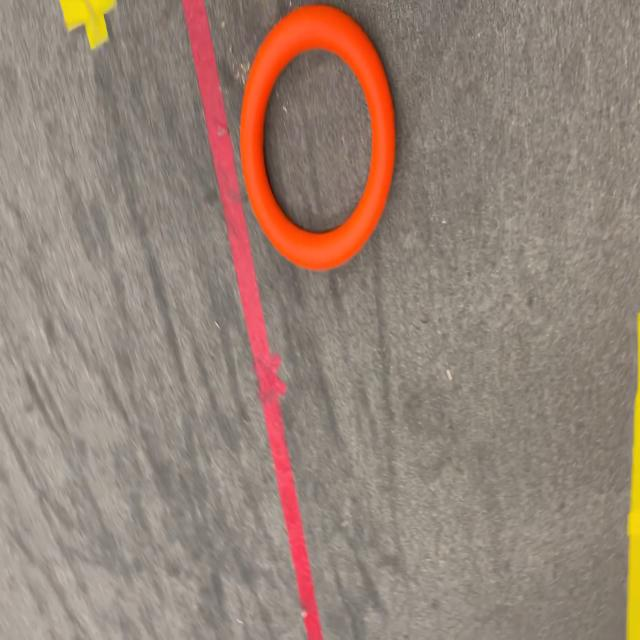note: (239, 6, 396, 270)
